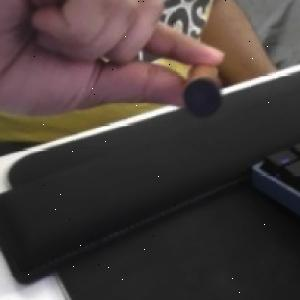Golden-E-Ciggirate: (184, 55, 222, 119)
